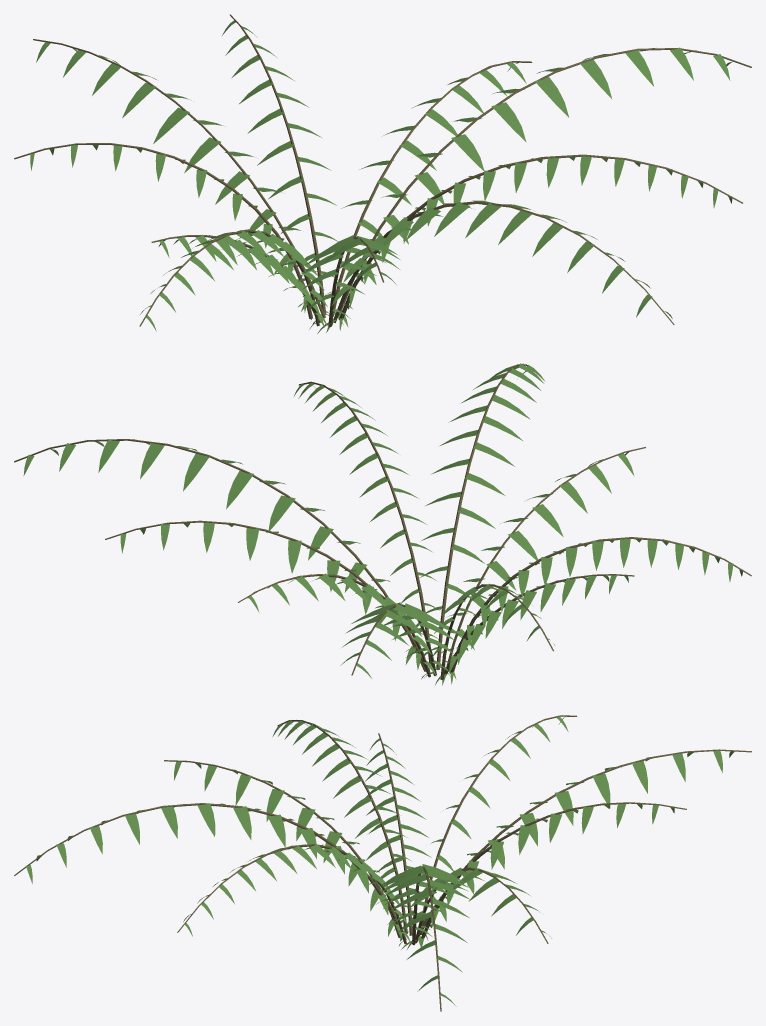
The model's file is fern_3.fbx.
3 views of the same model, one above another, from view 1: azimuth 30°, elevation 25°; view 2: azimuth 150°, elevation 25°; view 3: azimuth 270°, elevation 25° (orthographic). The views are drawn at different scales.
Parts seen in each view (by area): view 1: fern_3; view 2: fern_3; view 3: fern_3.
Part boxes in pixels (x1,y1,x2,y2): fern_3: (14, 14, 751, 333); fern_3: (14, 363, 751, 685); fern_3: (14, 715, 751, 1011).
Bounding box in the file's own units: 1.66 × 0.4439 × 1.71.
